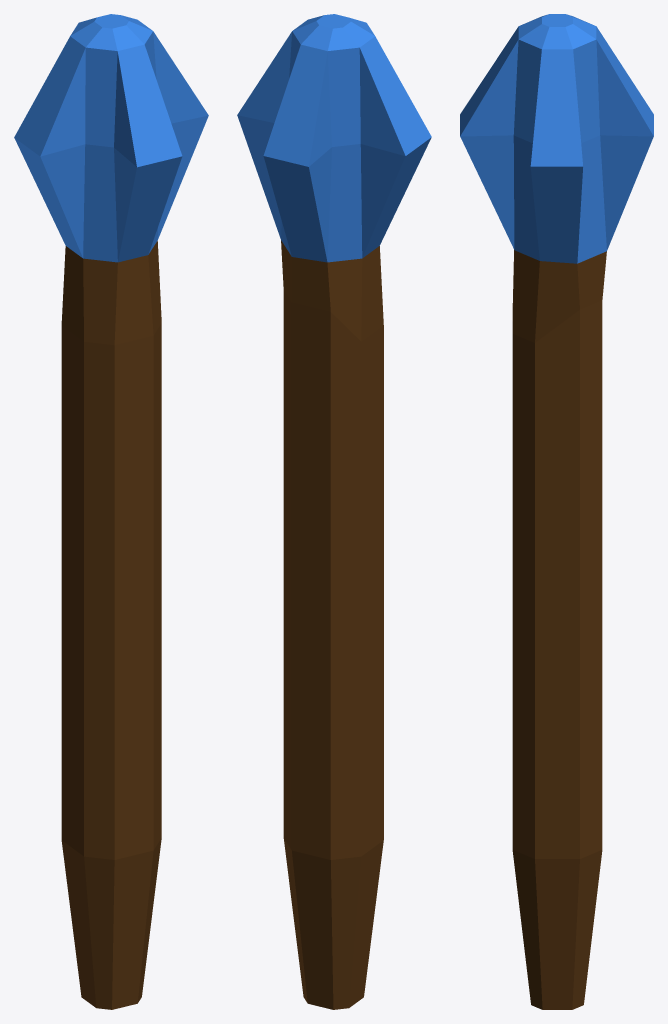
Rendered from MithrilMace.glb.
The picture shows the model from 3 angles, left to right: view 1: azimuth 30°, elevation 25°; view 2: azimuth 150°, elevation 25°; view 3: azimuth 270°, elevation 25°; orthographic projection.
Parts seen in each view (by area): view 1: Mace; view 2: Mace; view 3: Mace.
Part boxes in pixels (x1,y1,x2,y2): Mace: (14,14,208,1009); Mace: (237,14,431,1009); Mace: (460,14,653,1009).
Size of the model in its own units: 0.1021 by 0.5647 by 0.1013.
